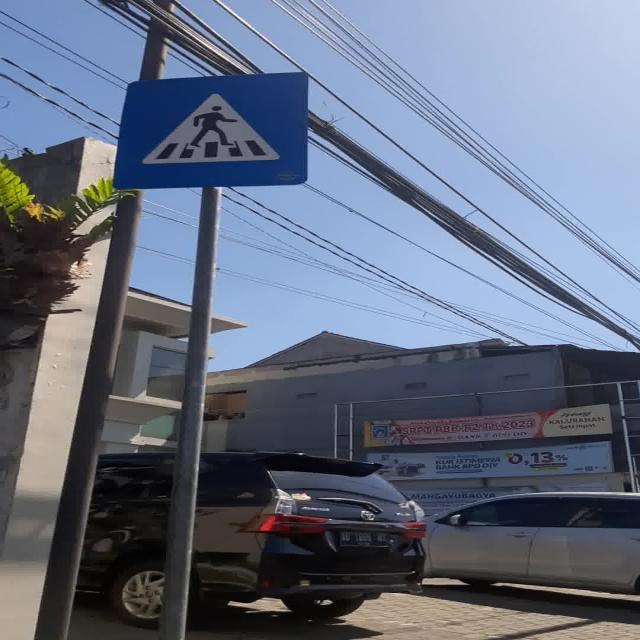Perintah Jalur Penyebrangan: (112, 72, 308, 190)
